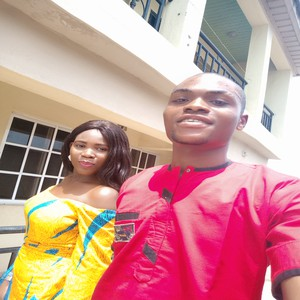Fulokoja_female_student: (37, 130, 114, 259)
Fulokoja_male_student: (139, 74, 269, 300)
